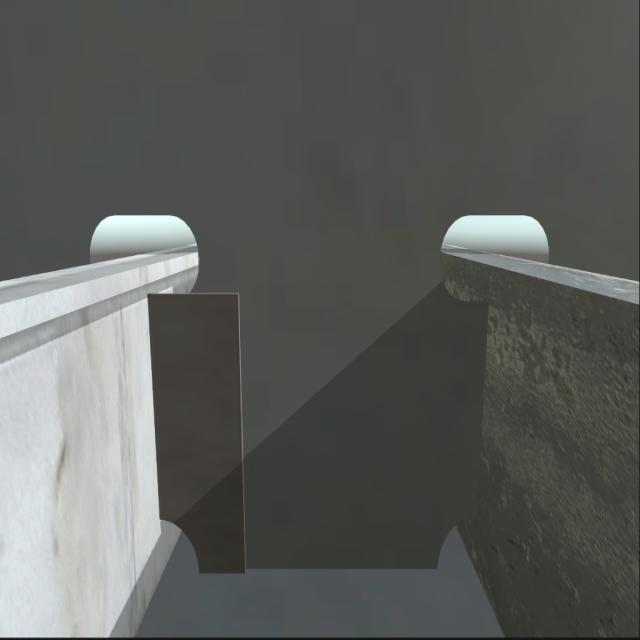fillet_hole: (156, 517, 202, 569), (436, 514, 476, 570)
fillet_yong_jeop_jang: (190, 558, 444, 582)
longi_yong_jeop_jang: (470, 293, 490, 522), (150, 285, 168, 515)
plate_CP01: (151, 289, 242, 572)
